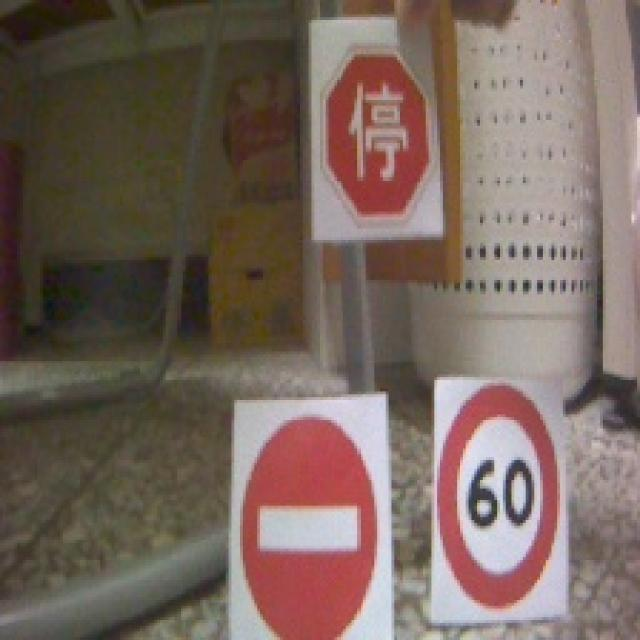DoNotEnterSign: (237, 411, 378, 640)
